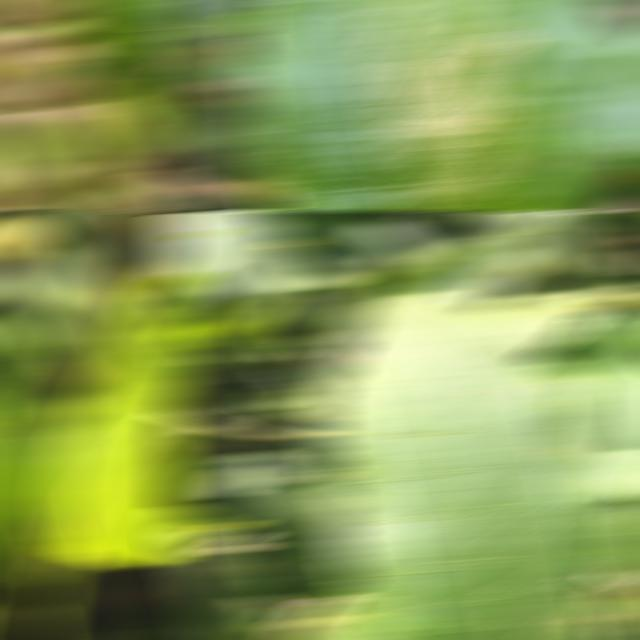Leaf: (312, 293, 636, 640), (227, 0, 537, 210), (47, 261, 184, 567), (497, 0, 640, 210), (0, 296, 68, 598), (335, 231, 529, 335), (218, 458, 359, 597), (70, 0, 184, 155), (164, 537, 276, 640), (184, 212, 307, 304), (471, 212, 610, 286), (0, 120, 87, 194), (286, 585, 398, 640), (18, 212, 127, 266), (253, 295, 313, 331)
